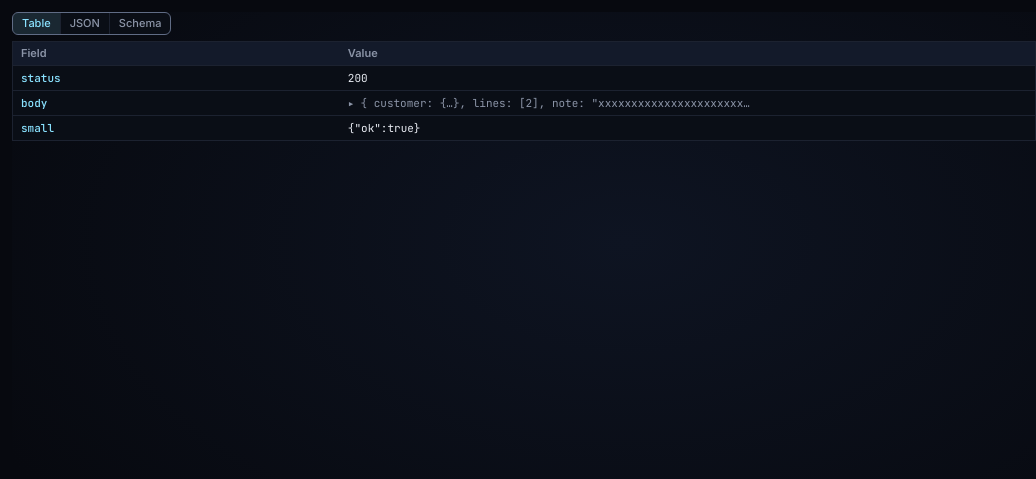
Test: RunDataView › shows a big nested value as one line that expands to its JSON
The width and height of the screenshot is (1036, 479).
Expected: the text "{\"ok\":true}" is shown, [340,116,1035,141]
Expected: the text "\"email\": \"ada@example.com\"" is not shown
Click the heading "Show the full value" at (621, 103), box [360,96,882,110]
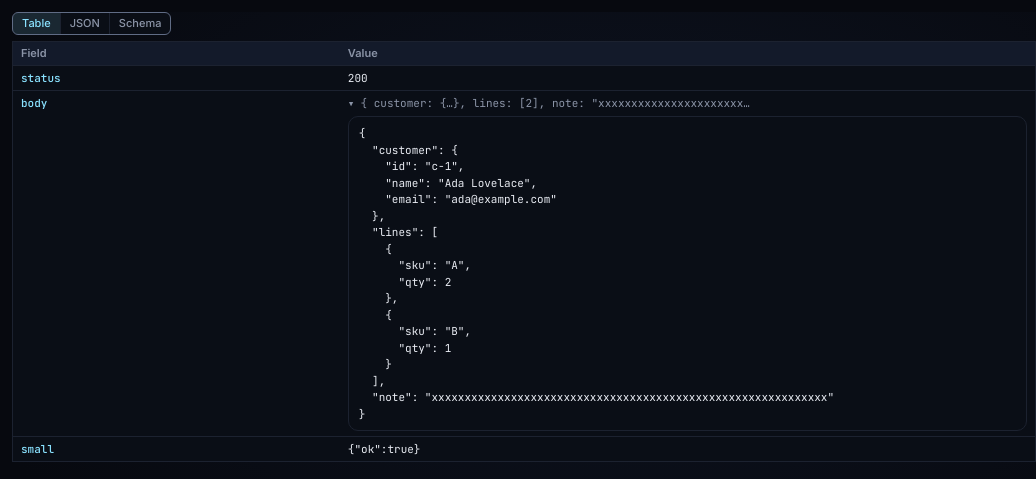
Result: the text "\"email\": \"ada@example.com\"" is shown at [359,126,834,421]
Click the heading "Hide the full value" at (621, 103), box [360,96,882,110]
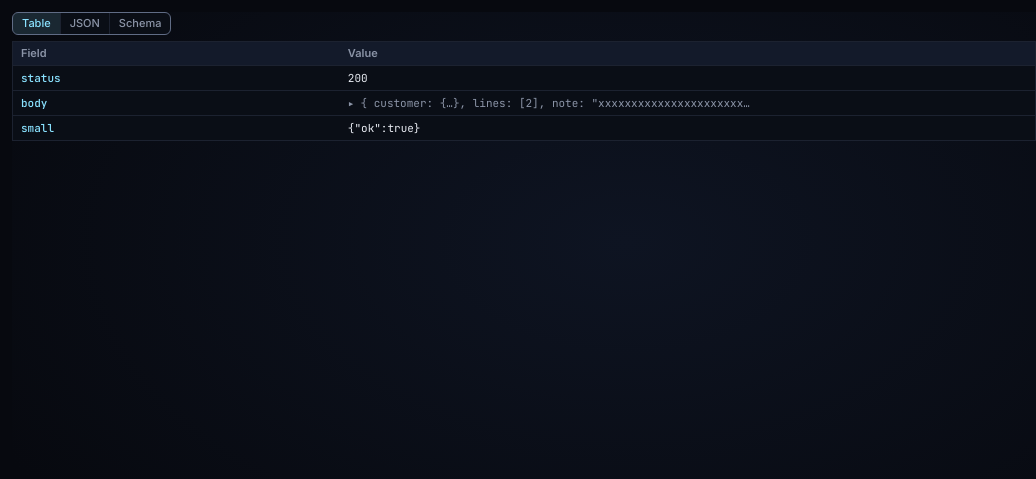
Result: the text "\"email\": \"ada@example.com\"" is gone
